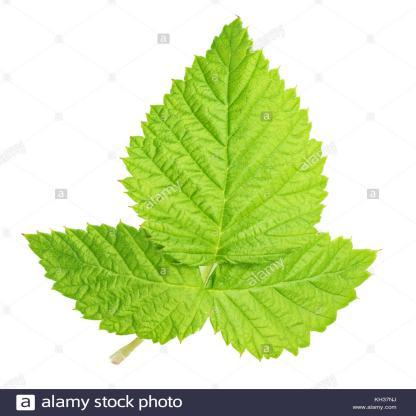Raspberry leaf: (119, 11, 330, 266), (8, 222, 214, 344), (210, 226, 382, 363)
